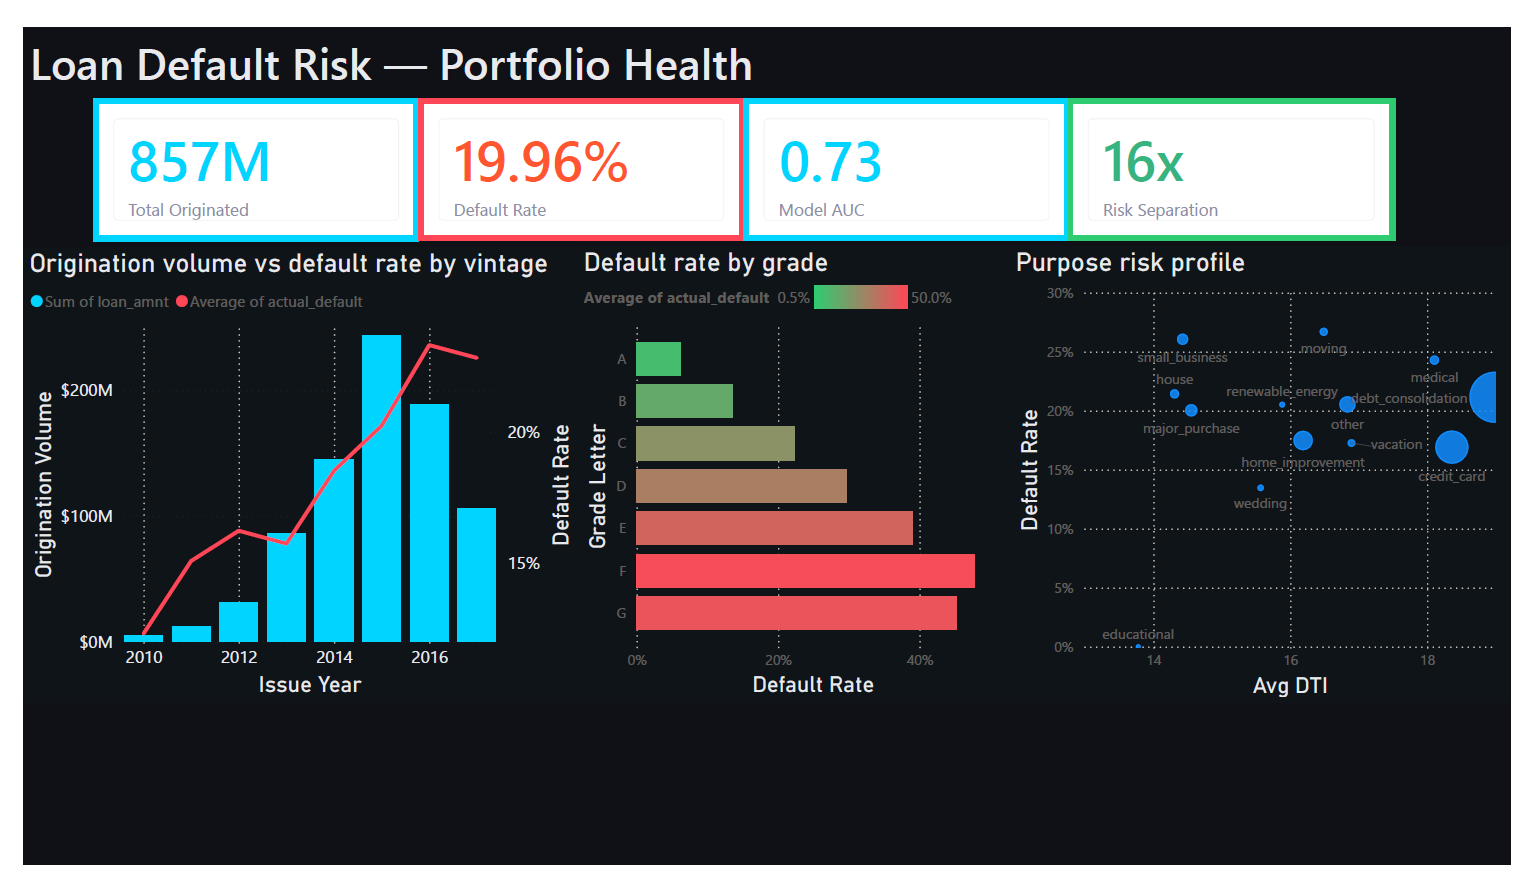

This screenshot's page, from the dashboard's own definition file:
{"tool":"powerbi","page":{"name":"Portfolio Health","canvas":[1280,720],"ordinal":0},"visuals":[{"type":"textbox","box":[0,0,707.5,61.2],"z":0},{"type":"cardVisual","fields":{"Data":["loan_predictions.Total Originated"]},"box":[60,61.2,280,122.5],"z":2000},{"type":"cardVisual","fields":{"Data":["loan_predictions.Default Rate Actual"]},"box":[340,61,280,122.5],"z":3000},{"type":"cardVisual","fields":{"Data":["Approval Threshold.Model AUC"]},"box":[620,61,280,122.5],"z":4000},{"type":"cardVisual","fields":{"Data":["Approval Threshold.Risk Separation"]},"box":[899.4,60.8,281.1,122.7],"z":5000},{"type":"lineStackedColumnComboChart","title":"Origination volume vs default rate by vintage","fields":{"Category":["loan_predictions.issue_year"],"Y":["Sum(loan_predictions.loan_amnt)"],"Y2":["Avg(loan_predictions.actual_default)"]},"box":[0,188.8,476.2,392.5],"z":9000},{"type":"clusteredBarChart","title":"Default rate by grade","fields":{"Category":["loan_predictions.Grade Letter"],"Y":["Avg(loan_predictions.actual_default)"]},"box":[476.5,188.2,372.9,393.1],"z":10000},{"type":"scatterChart","title":"Purpose risk profile","fields":{"Category":["loan_predictions.purpose"],"X":["Avg(loan_predictions.dti)"],"Y":["Avg(loan_predictions.actual_default)"],"Size":["Sum(loan_predictions.loan_amnt)"]},"box":[849.4,188.2,430.1,393.1],"z":11000}]}

Visuals, with their boxes in screenshot pixels (x1, y1, x2, y2), scaled from the page's 1280x720 canvas onto the 1535x890 screenshot:
textbox: x1=0, y1=0, x2=848, y2=76
cardVisual - loan_predictions.Total Originated: x1=72, y1=76, x2=408, y2=227
cardVisual - loan_predictions.Default Rate Actual: x1=408, y1=75, x2=744, y2=227
cardVisual - Approval Threshold.Model AUC: x1=744, y1=75, x2=1079, y2=227
cardVisual - Approval Threshold.Risk Separation: x1=1079, y1=75, x2=1416, y2=227
"Origination volume vs default rate by vintage" lineStackedColumnComboChart: x1=0, y1=233, x2=571, y2=719
"Default rate by grade" clusteredBarChart: x1=571, y1=233, x2=1019, y2=719
"Purpose risk profile" scatterChart: x1=1019, y1=233, x2=1534, y2=719
